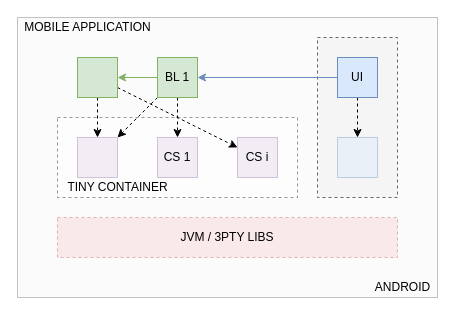
The diagram is 455 pixels wide and 315 high, and some of its shapes have lost their labels. The shapes that lost their labels are listed below. From the top down, each one's centre as x and y in pixels, then its label:
At point 97,77: "BL 0".
At point 97,157: "CS 0".
At point 357,157: "MS".
